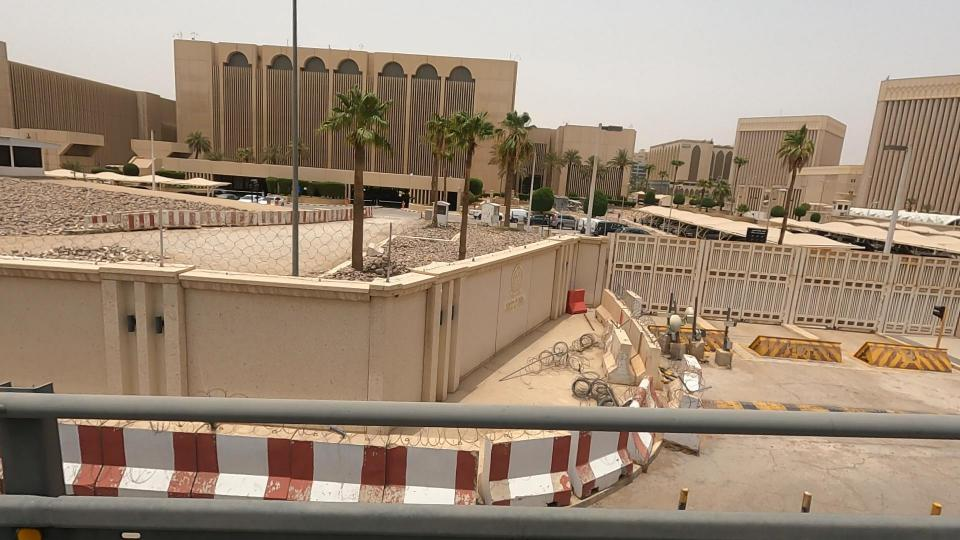CONSTRUCTION_ROAD: (260, 326, 830, 540), (25, 155, 439, 271)
